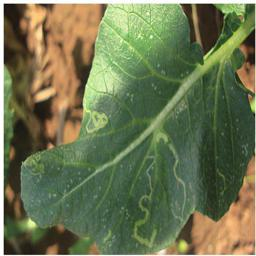liriomyza: (155, 129, 187, 223), (132, 153, 158, 248), (82, 107, 109, 136)
